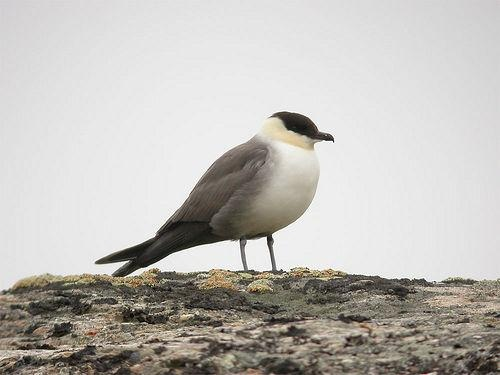bird: (90, 110, 335, 290)
